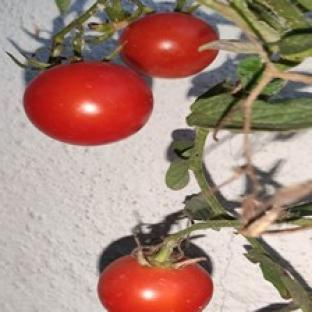Tomato: (24, 62, 153, 146), (98, 255, 213, 311), (120, 13, 218, 77)
